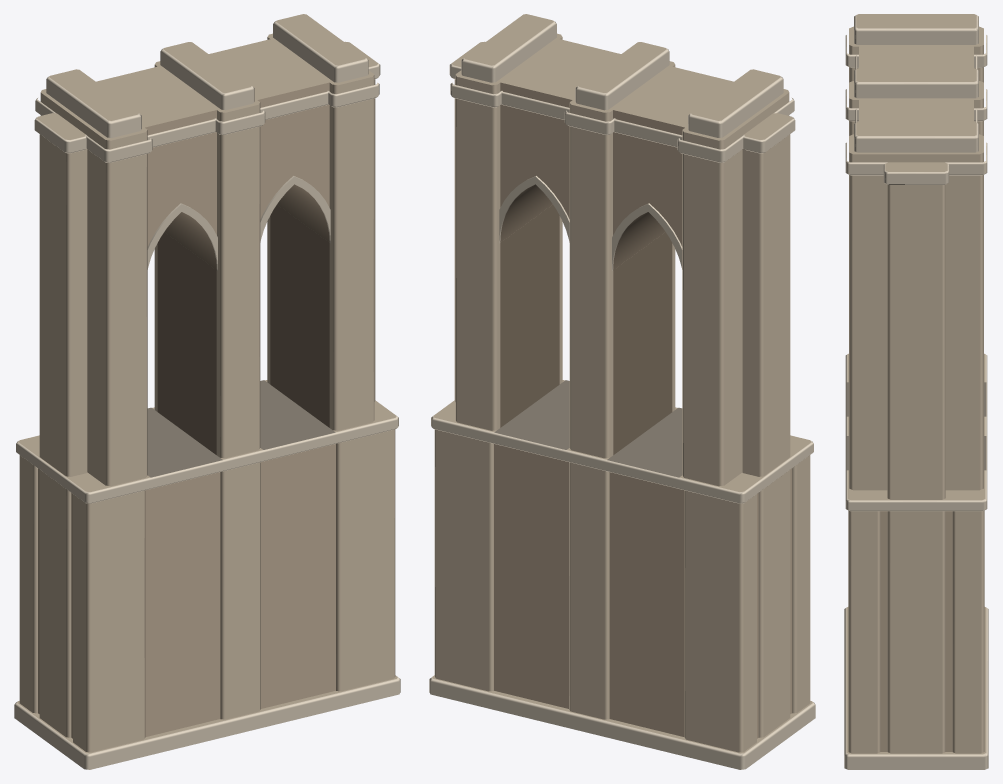
The model's file is brooklyn-bridge-tower.glb.
3 views of the same model, side by side, from view 1: azimuth 30°, elevation 25°; view 2: azimuth 150°, elevation 25°; view 3: azimuth 270°, elevation 25° (orthographic). The views are drawn at different scales.
Parts seen in each view (by area): view 1: Brooklyn Bridge tower; view 2: Brooklyn Bridge tower; view 3: Brooklyn Bridge tower.
Boxes of the visible parts, x1,y1,x2,y2 form: Brooklyn Bridge tower: [14, 14, 400, 769]; Brooklyn Bridge tower: [429, 14, 815, 769]; Brooklyn Bridge tower: [844, 14, 988, 769].
Size of the model in its own units: 43.8 by 84.3 by 17.8.
